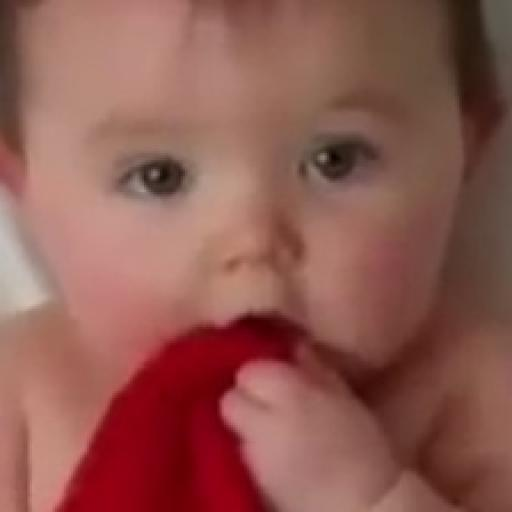Autism: (18, 12, 495, 447)
